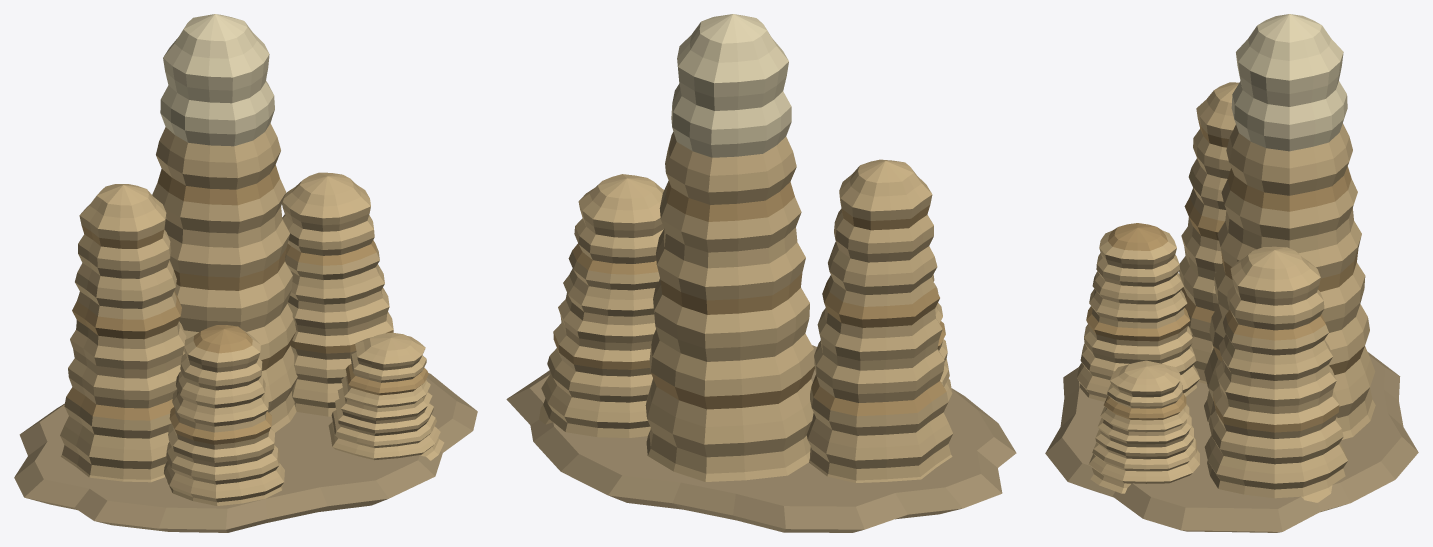
3 views of the same model, side by side, from view 1: azimuth 30°, elevation 25°; view 2: azimuth 150°, elevation 25°; view 3: azimuth 270°, elevation 25° (orthographic). The views are drawn at different scales.
Visible parts, largest first — view 1: rounded_solid_floor_stalagmite_1, rounded_solid_floor_stalagmite_2, low_irregular_floor_mineral_crust, rounded_solid_floor_stalagmite_3, rounded_solid_floor_stalagmite_4, rounded_solid_floor_stalagmite_5; view 2: rounded_solid_floor_stalagmite_1, rounded_solid_floor_stalagmite_2, low_irregular_floor_mineral_crust, rounded_solid_floor_stalagmite_3, rounded_solid_floor_stalagmite_4; view 3: rounded_solid_floor_stalagmite_1, rounded_solid_floor_stalagmite_3, low_irregular_floor_mineral_crust, rounded_solid_floor_stalagmite_4, rounded_solid_floor_stalagmite_5, rounded_solid_floor_stalagmite_2.
Boxes of the visible parts, <box> form: rounded_solid_floor_stalagmite_1: <box>152,14,297,432</box>; rounded_solid_floor_stalagmite_2: <box>60,184,186,482</box>; low_irregular_floor_mineral_crust: <box>14,373,477,532</box>; rounded_solid_floor_stalagmite_3: <box>282,172,393,416</box>; rounded_solid_floor_stalagmite_4: <box>164,325,284,505</box>; rounded_solid_floor_stalagmite_5: <box>328,332,444,460</box>; rounded_solid_floor_stalagmite_1: <box>645,14,814,481</box>; rounded_solid_floor_stalagmite_2: <box>806,159,953,482</box>; low_irregular_floor_mineral_crust: <box>506,345,1016,532</box>; rounded_solid_floor_stalagmite_3: <box>539,174,663,437</box>; rounded_solid_floor_stalagmite_4: <box>932,274,952,408</box>; rounded_solid_floor_stalagmite_1: <box>1204,14,1375,439</box>; rounded_solid_floor_stalagmite_3: <box>1204,246,1347,502</box>; low_irregular_floor_mineral_crust: <box>1045,352,1418,532</box>; rounded_solid_floor_stalagmite_4: <box>1077,223,1199,401</box>; rounded_solid_floor_stalagmite_5: <box>1089,360,1199,493</box>; rounded_solid_floor_stalagmite_2: <box>1179,82,1238,384</box>.
Size of the model in its own units: 2.35 by 2.2 by 1.75.
